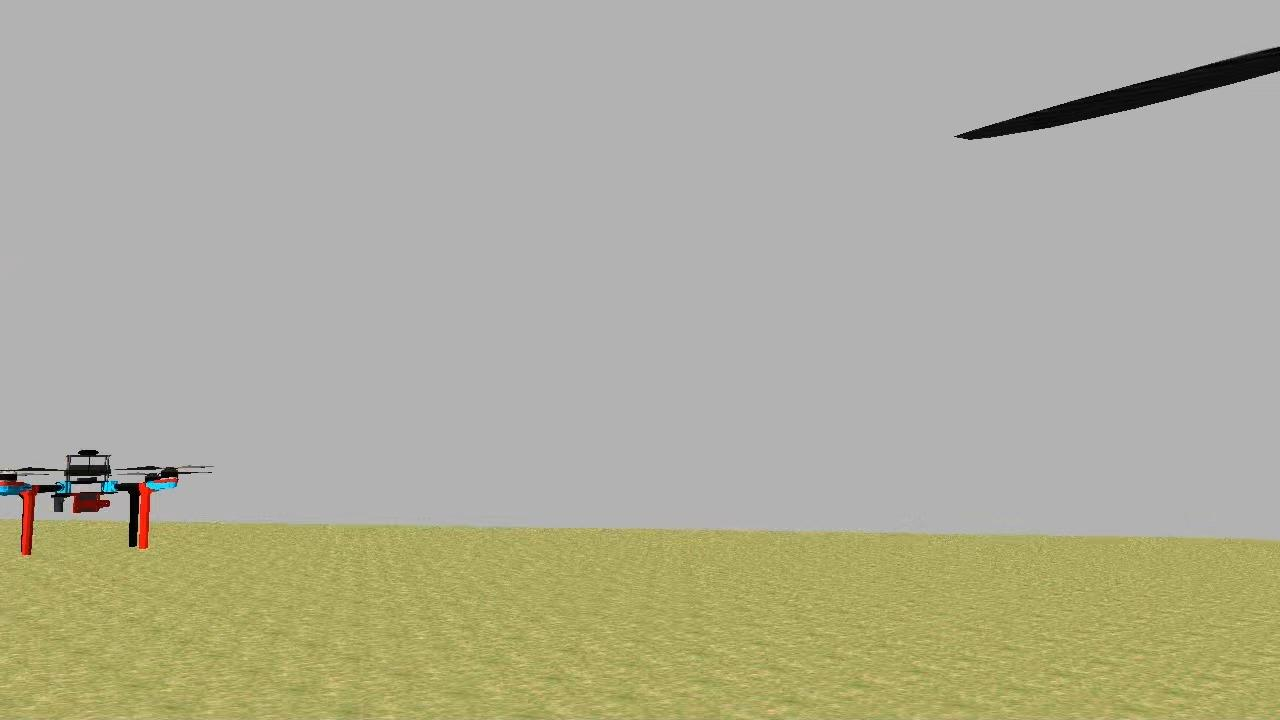UAV: (0, 446, 184, 560)
